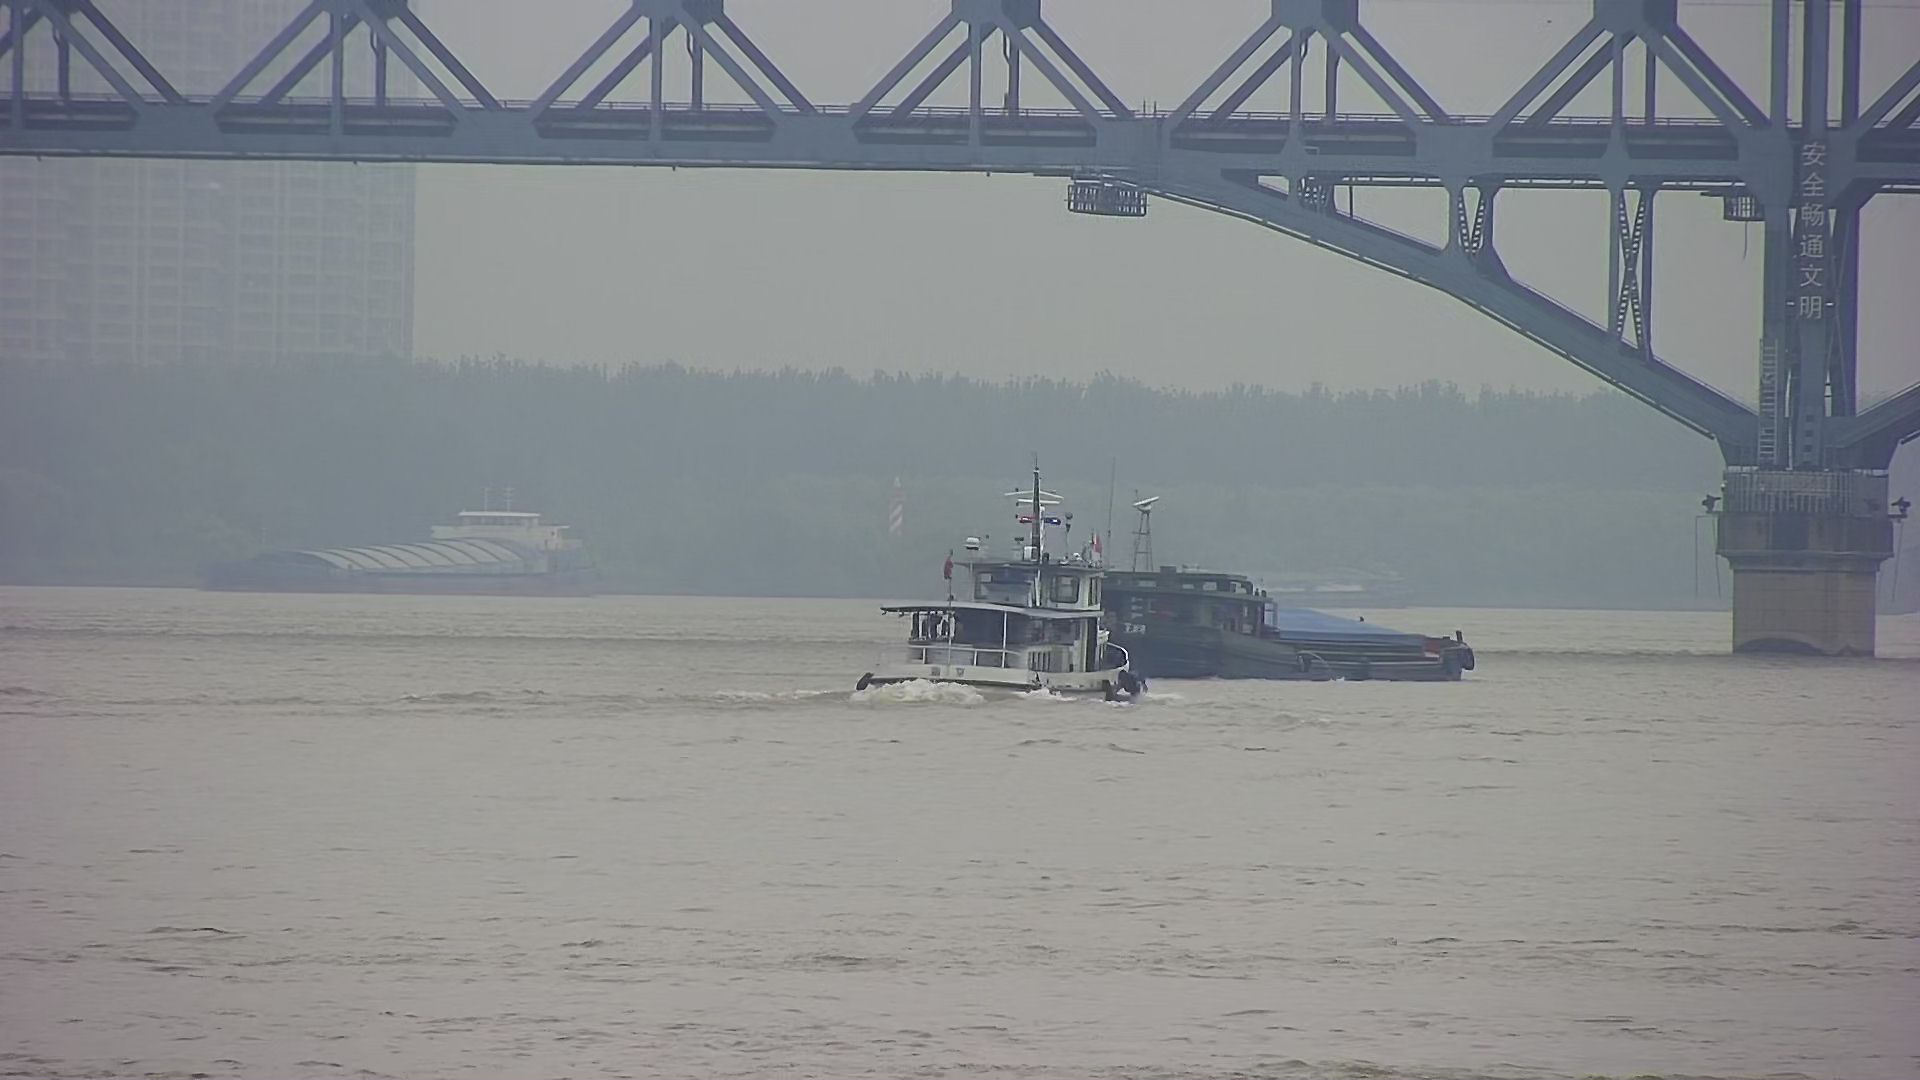bridge: (1, 1, 1913, 659)
ship: (1071, 485, 1519, 680), (828, 438, 1147, 708), (193, 468, 624, 603)
